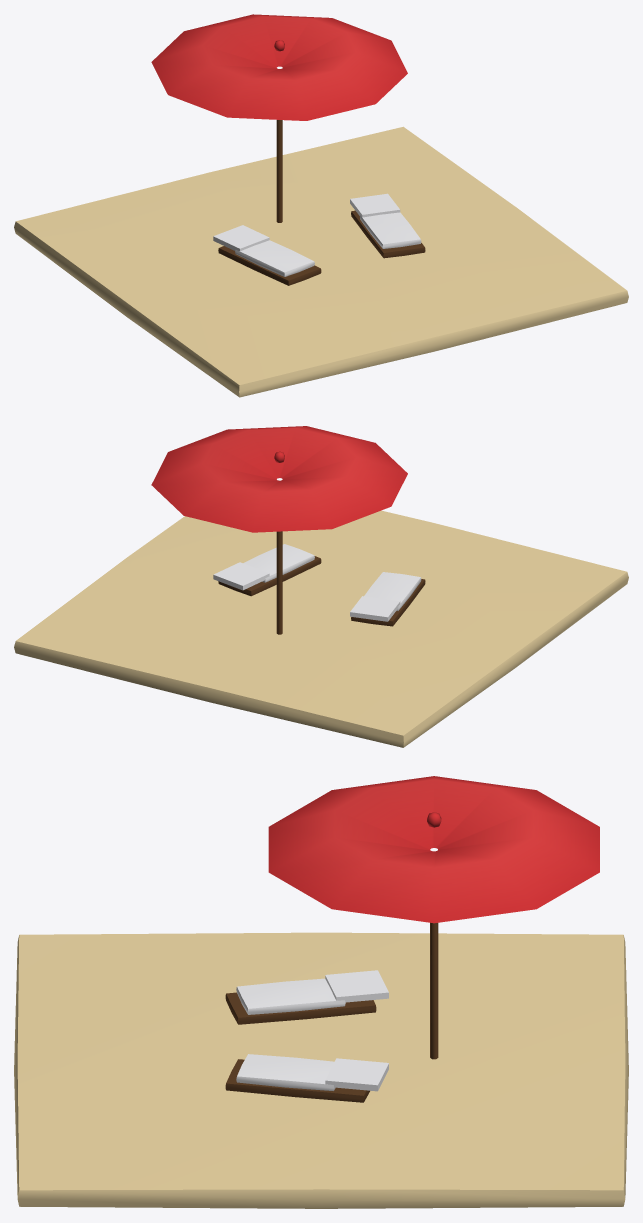
The model's file is SunbedsUmbrella.obj.
3 views of the same model, one above another, from view 1: azimuth 30°, elevation 25°; view 2: azimuth 150°, elevation 25°; view 3: azimuth 270°, elevation 25° (orthographic). The views are drawn at different scales.
Parts seen in each view (by area): view 1: SunbedsUmbrella; view 2: SunbedsUmbrella; view 3: SunbedsUmbrella.
Part boxes in pixels (left/top/right/bottom): SunbedsUmbrella: left=14, top=14, right=628, bottom=397; SunbedsUmbrella: left=14, top=426, right=628, bottom=747; SunbedsUmbrella: left=14, top=776, right=628, bottom=1208.
Size of the model in its own units: 3 by 1.46 by 3.
1 material, 1 textured.
